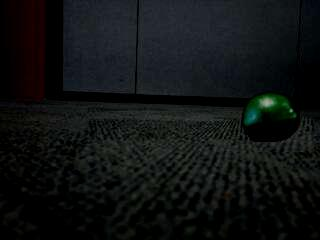Lime: (239, 91, 303, 144)
